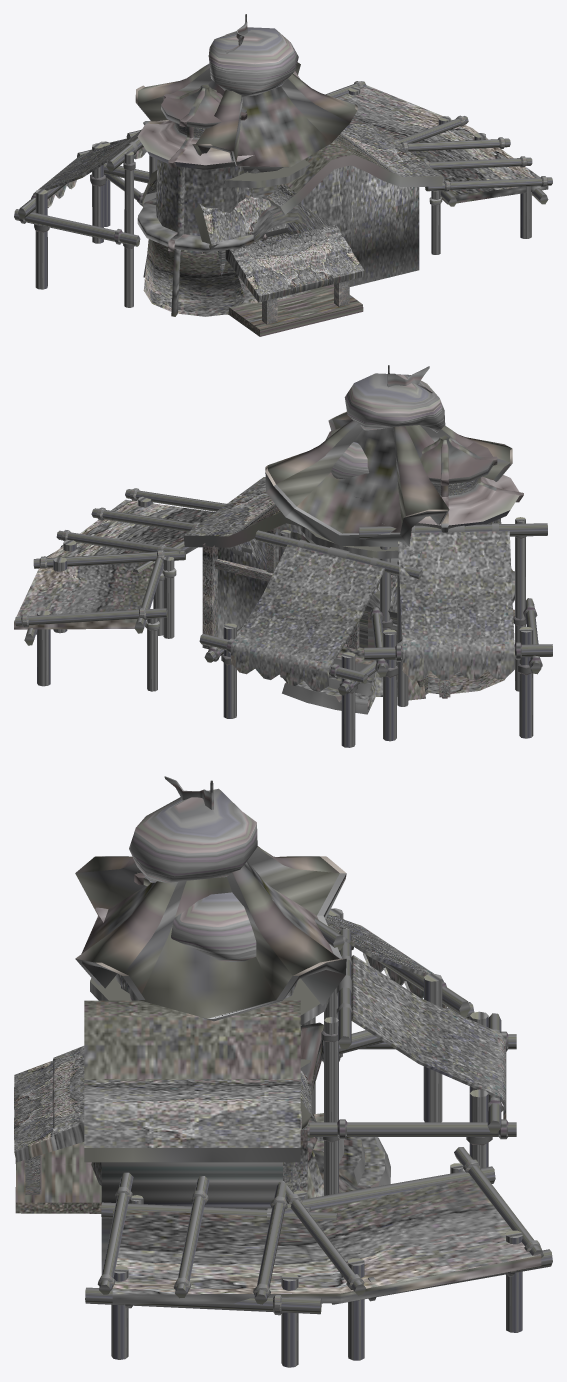
File: ASSET.fbx
3 views of the same model, one above another, from view 1: azimuth 30°, elevation 25°; view 2: azimuth 150°, elevation 25°; view 3: azimuth 270°, elevation 25° (orthographic). The views are drawn at different scales.
Visible parts, largest first — view 1: H1, H2, H3, asset; view 2: H1, H2, asset, H3; view 3: H1, H2, asset, H3.
Boxes of the visible parts, x1,y1,x2,y2 form: H1: (14, 81, 552, 316); H2: (77, 14, 357, 314); H3: (142, 170, 364, 336); asset: (208, 27, 299, 172); H1: (14, 435, 552, 741); H2: (199, 365, 512, 747); asset: (325, 373, 445, 574); H3: (278, 560, 514, 694); H1: (84, 846, 552, 1367); H2: (75, 776, 516, 1198); asset: (115, 788, 273, 1000); H3: (14, 1046, 311, 1213).
Bounding box in the file's own units: 15.75 × 8.5 × 10.46.
